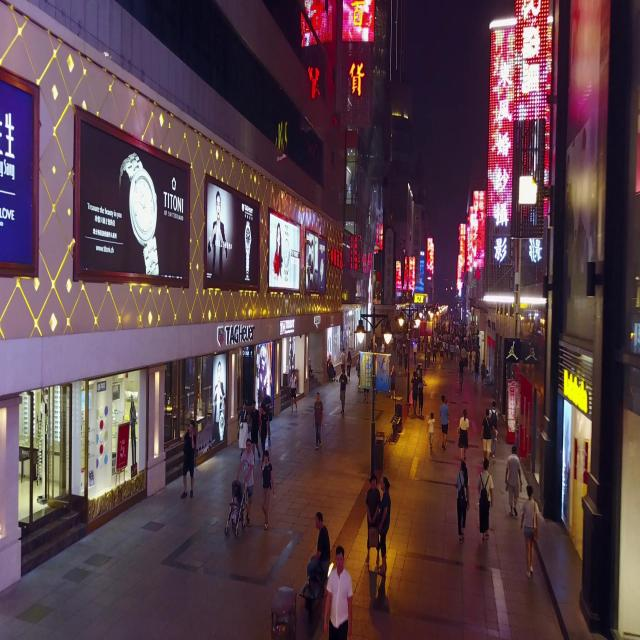person: (323, 546, 353, 639), (207, 190, 228, 276), (520, 485, 538, 578), (477, 458, 494, 541), (180, 419, 196, 498), (505, 445, 522, 516), (455, 459, 469, 542), (212, 361, 225, 442), (312, 392, 324, 450), (272, 222, 282, 277)
